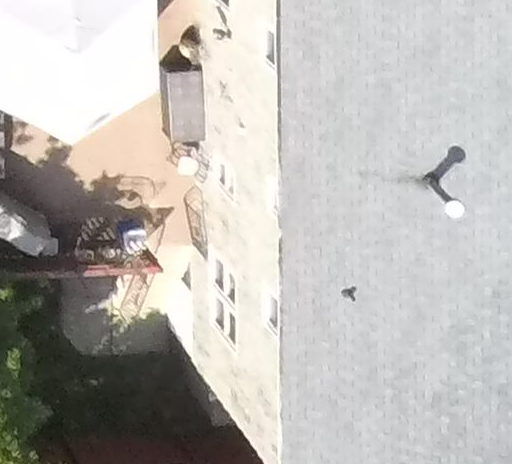chair: (163, 145, 220, 188)
